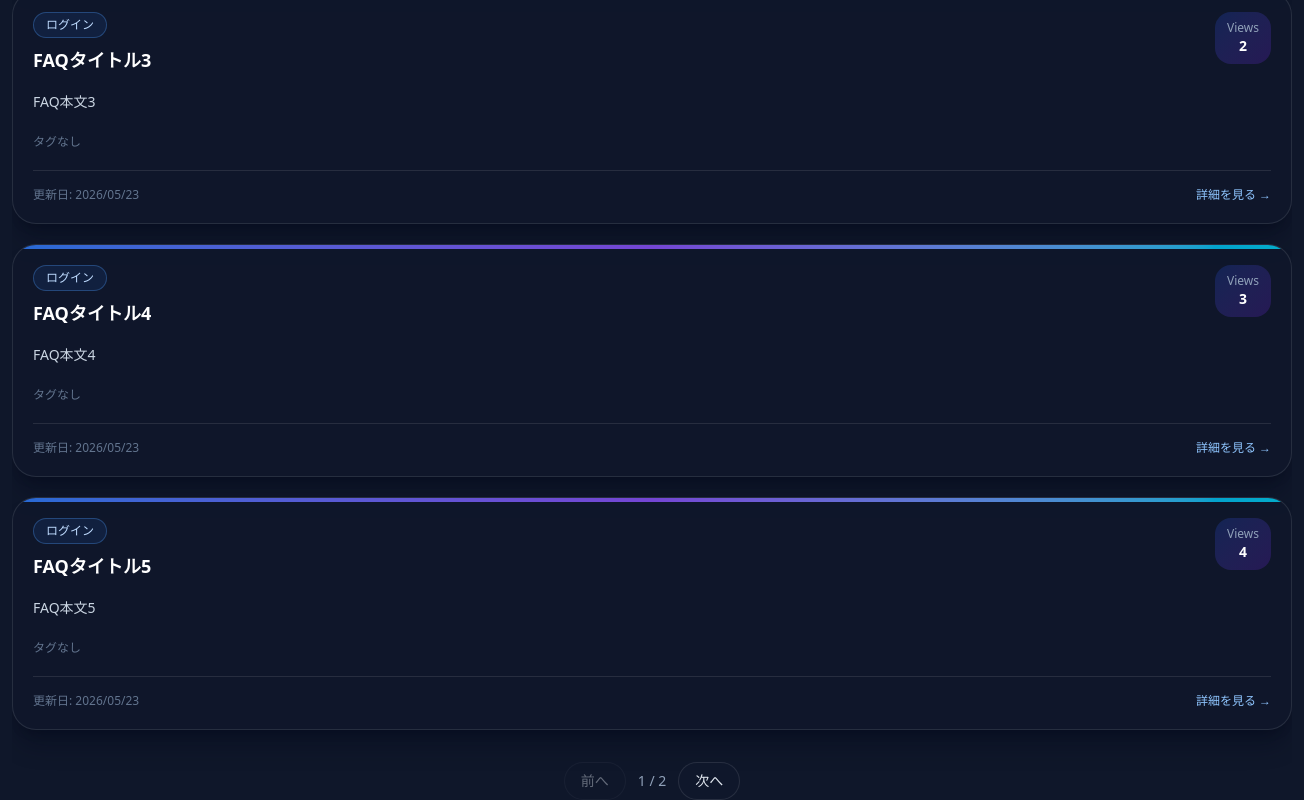
HomePage › 次へボタンで2ページ目を表示する
(page scrolled)
Click the button "次へ" at (709, 781), box x1=678 y1=762 x2=740 y2=799
(page scrolled)
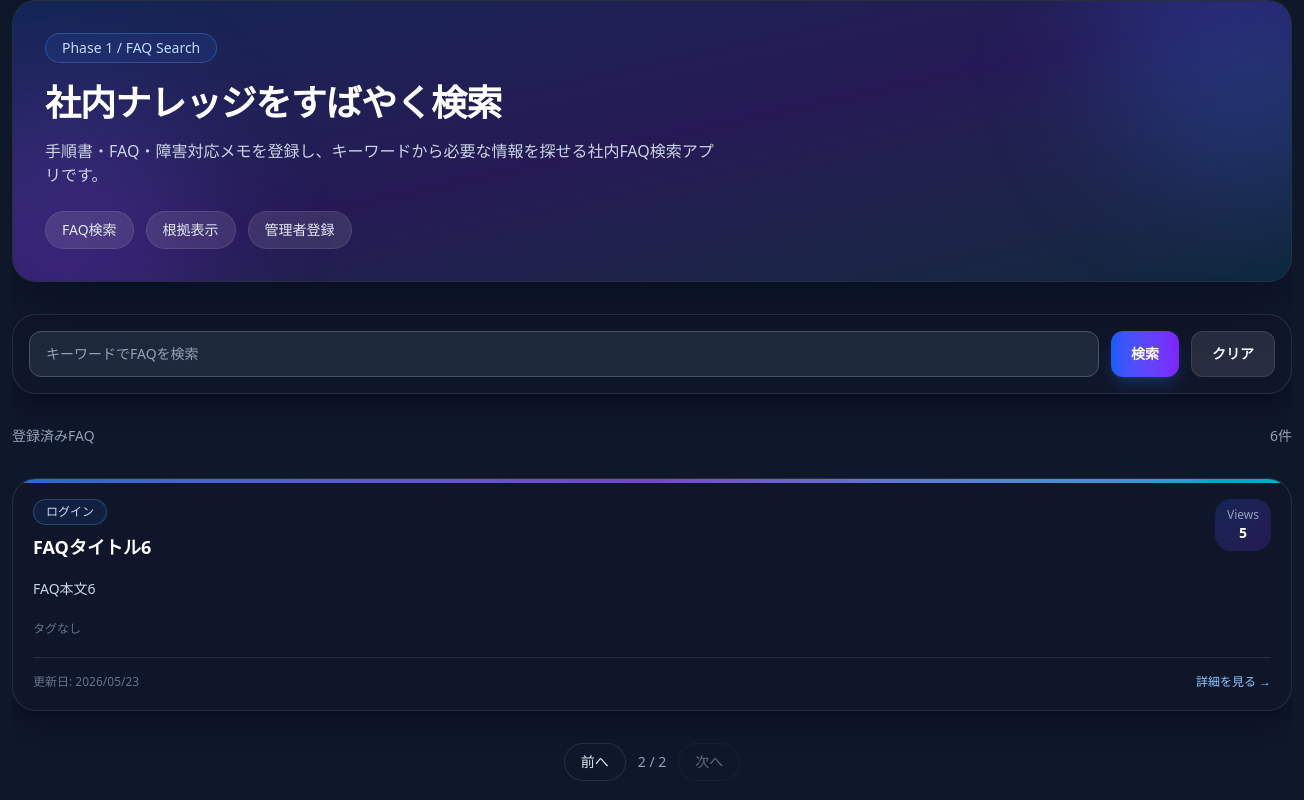
Result: the text "2 / 2" is shown at x1=638 y1=752 x2=666 y2=772
Result: the heading "FAQタイトル6" is shown at x1=33 y1=533 x2=151 y2=561
Result: the button "次へ" is disabled at x1=678 y1=743 x2=740 y2=781
